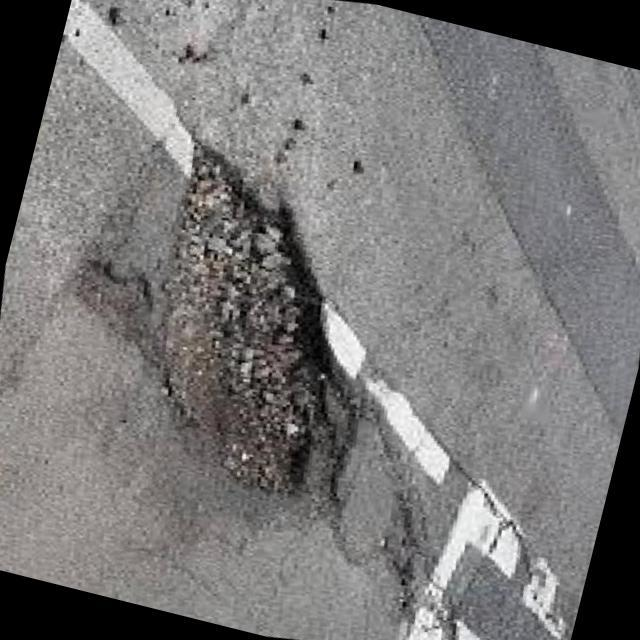pothole: (92, 116, 393, 516)
